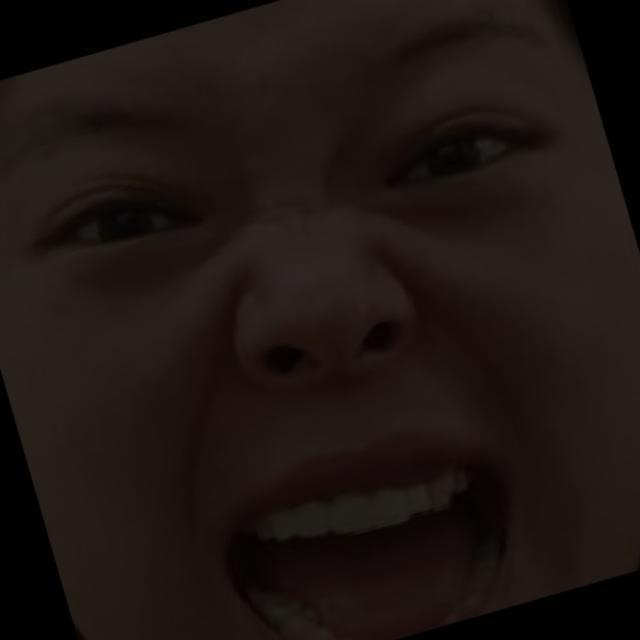Angry: (23, 30, 600, 640)
